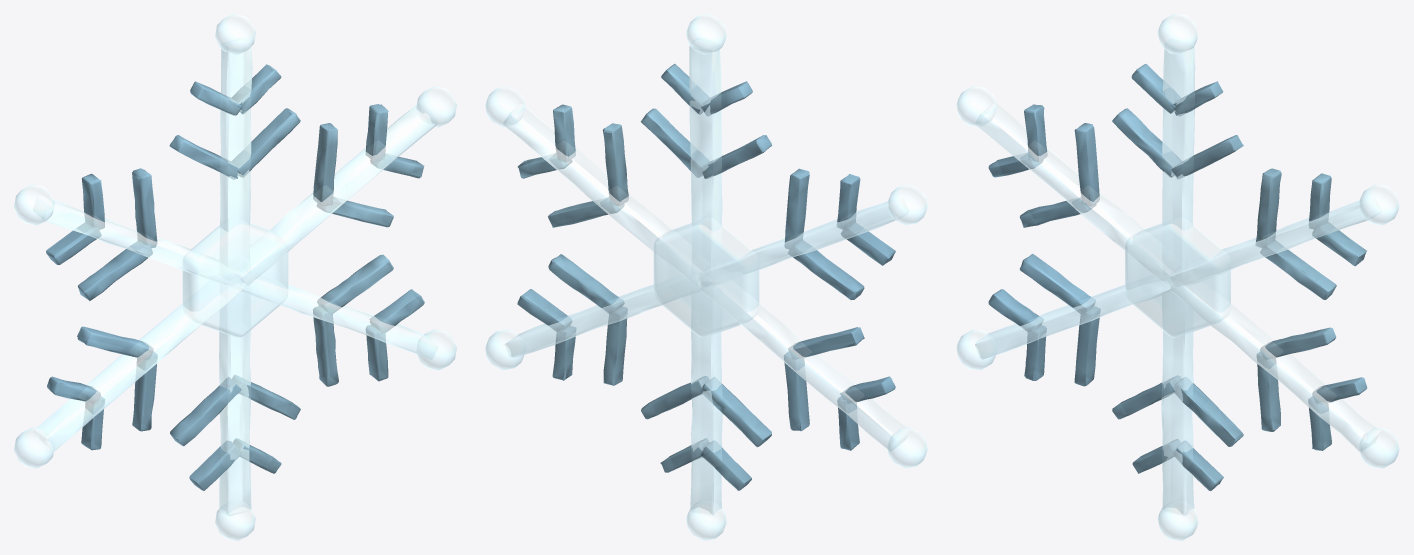
The model's file is frost_snowflake.glb.
3 views of the same model, side by side, from view 1: azimuth 30°, elevation 25°; view 2: azimuth 150°, elevation 25°; view 3: azimuth 330°, elevation 25° (orthographic).
Visible parts, largest first — view 1: frost_snowflake; view 2: frost_snowflake; view 3: frost_snowflake.
Part boxes in pixels (x1,y1,x2,y2): frost_snowflake: [14, 14, 456, 540]; frost_snowflake: [485, 14, 927, 540]; frost_snowflake: [956, 14, 1399, 540].
Bounding box in the file's own units: 10.47 × 12 × 0.864.
